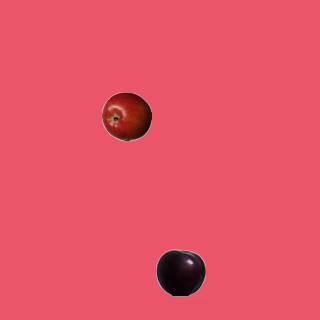Apple Braeburn: (101, 91, 151, 141)
Cherry Wax Black: (155, 247, 205, 297)
